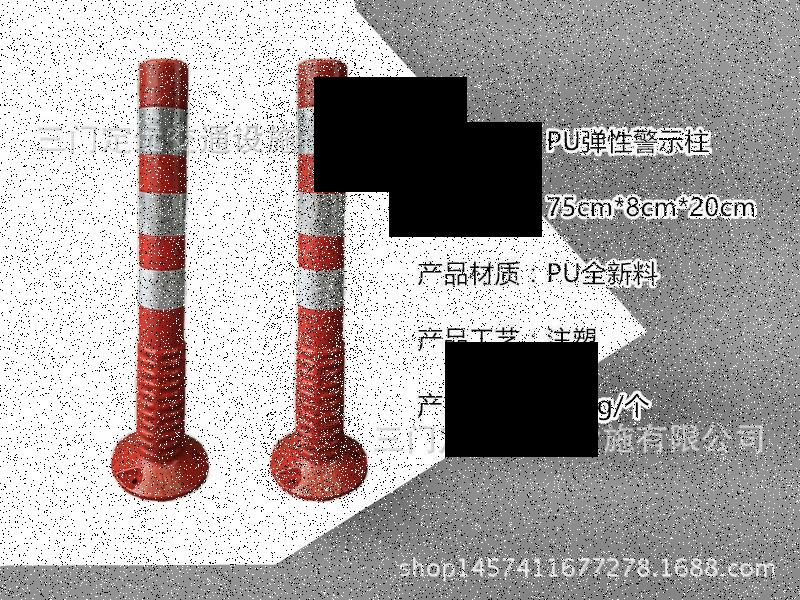bench: (108, 46, 212, 502), (263, 49, 365, 502)
